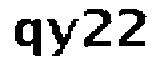2: (115, 6, 147, 52), (80, 6, 113, 50)
q: (12, 16, 43, 60)
y: (46, 15, 79, 58)
